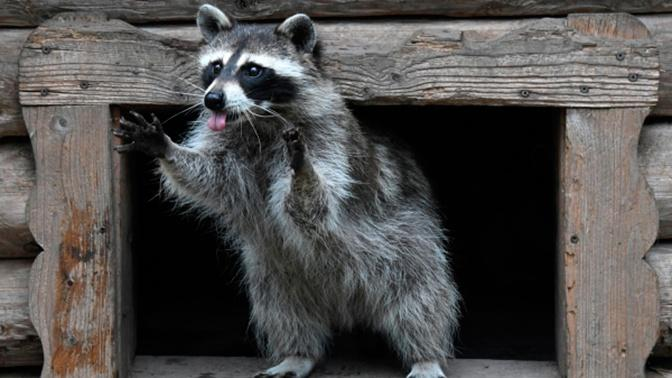raccoon: (111, 4, 464, 378)
